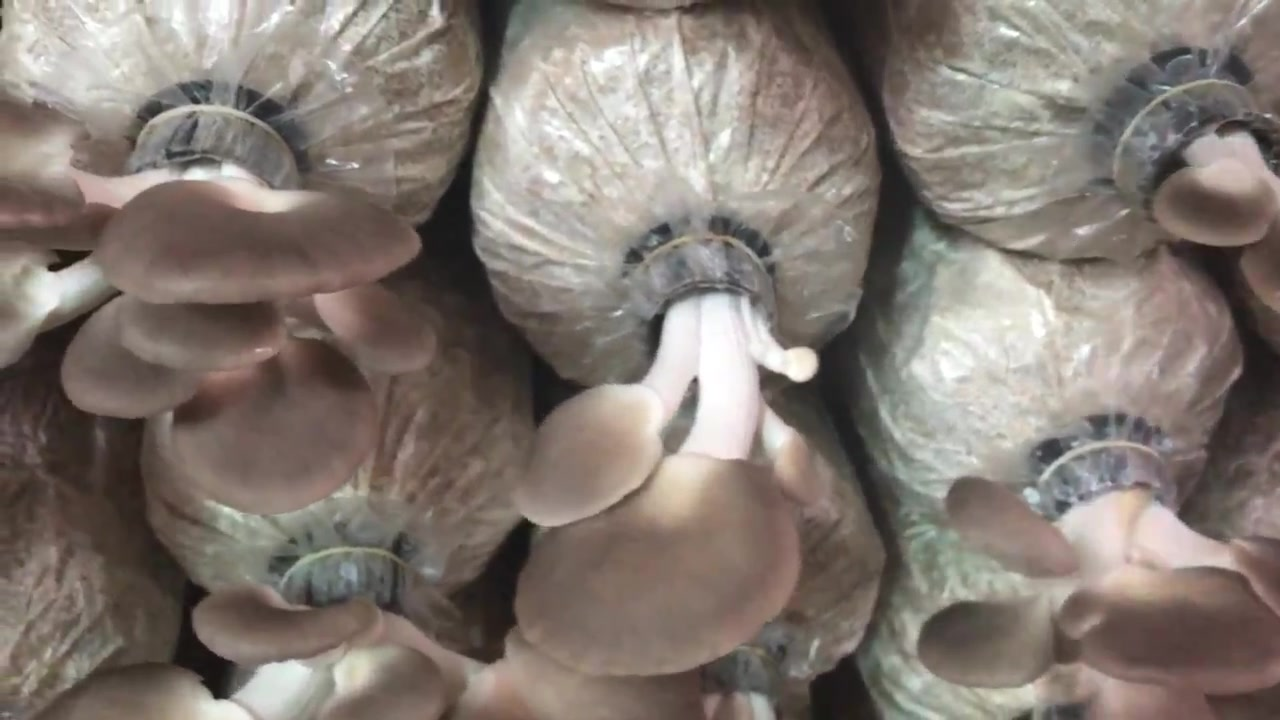nam: (1, 103, 443, 516), (510, 235, 825, 681), (38, 555, 710, 720), (917, 439, 1280, 696), (1110, 66, 1280, 310)
